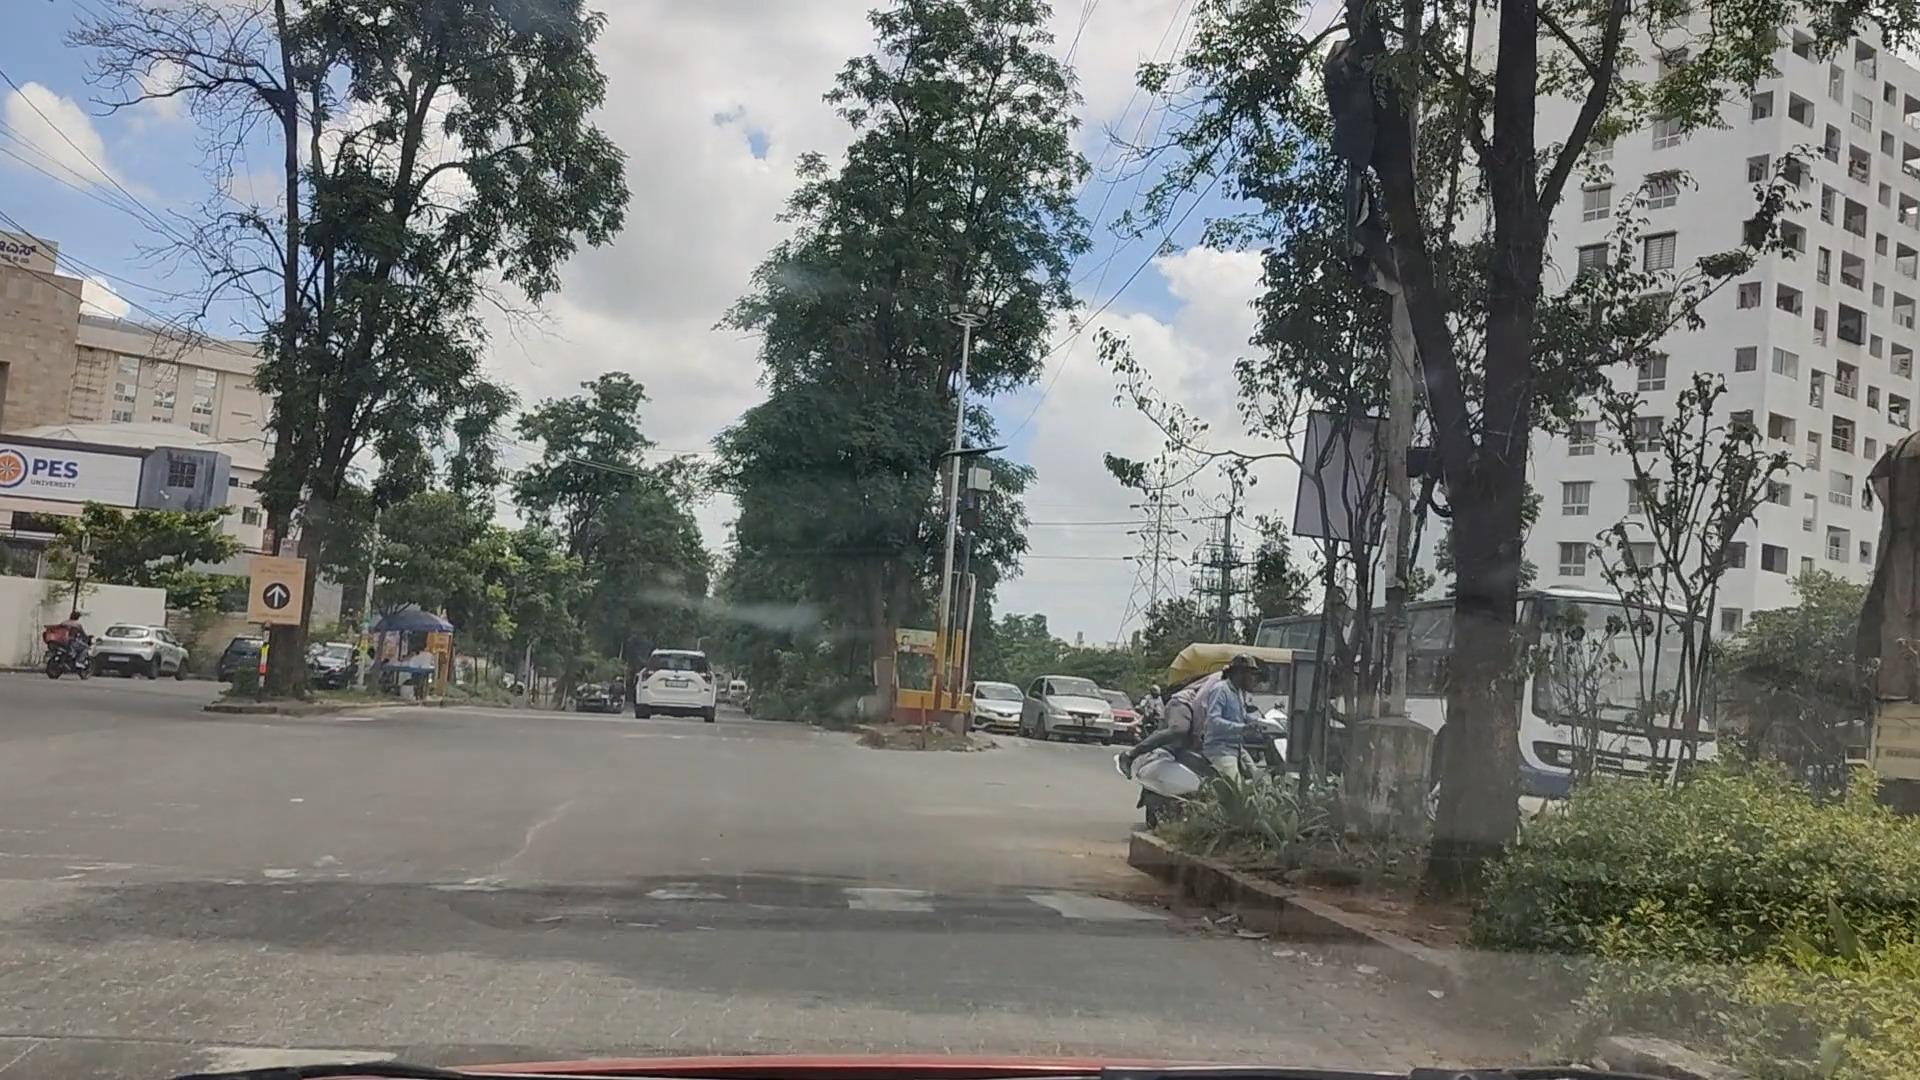RoadDamages: (513, 778, 585, 856)
SpeedBump: (0, 862, 1398, 1054)
